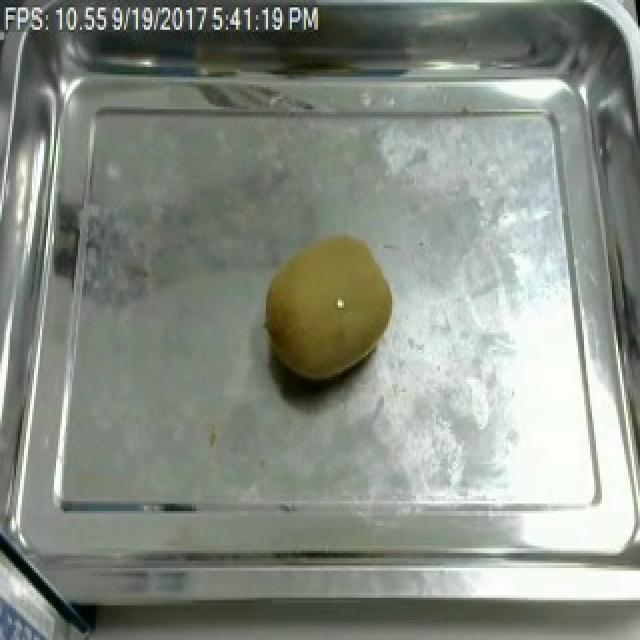Fruit: (258, 226, 404, 389)
